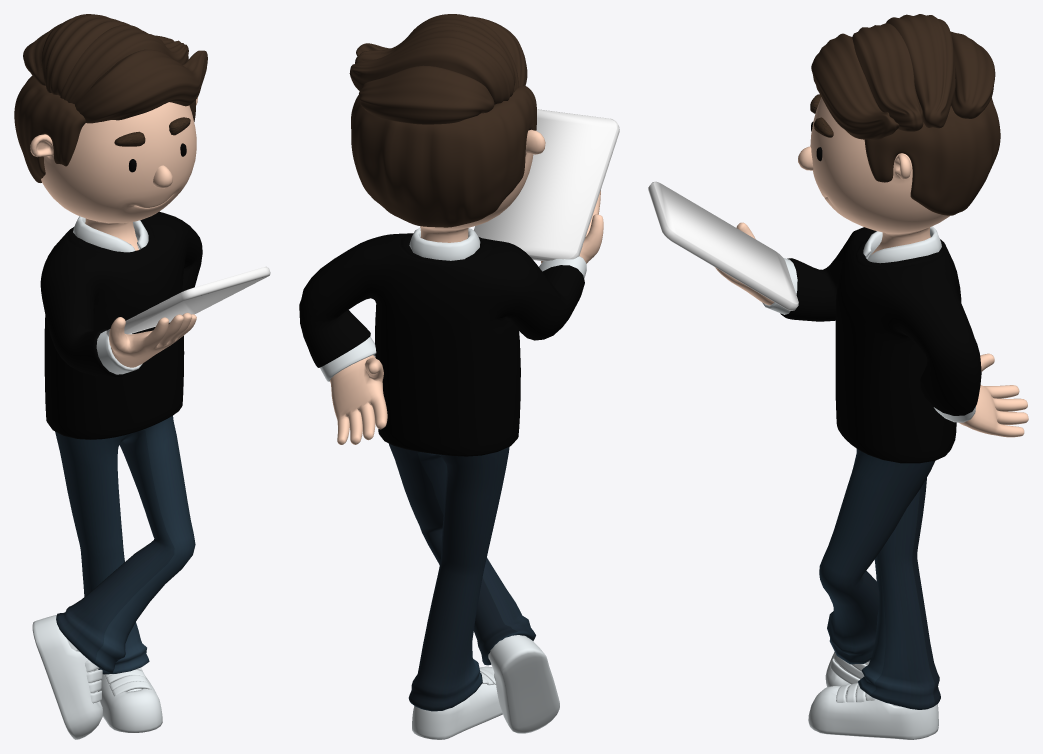
File: Char.gltf
3 renders of one model, left to right at view 1: azimuth 30°, elevation 25°; view 2: azimuth 150°, elevation 25°; view 3: azimuth 270°, elevation 25°, orthographic. The views are drawn at different scales.
Visible parts, largest first — view 1: Jumper_Cube.010_Jumper, LEGS_2_Cube.052_Male_Suit, body_Cube.017_skin_male, Hair_6a_Cube.007_hair_type_3, SHOES_1_Cube.053_shoes_white.001, Hair_6b_Cube.011_hair_type_3, 23_iPad_(pose_23)_Cube.025_tie, Jumper_Cube.010_Shirt_white, SHOES_1_Cube.053_Material, Eyebrow.004_Cube.002_hair_type_3.001; view 2: Jumper_Cube.010_Jumper, LEGS_2_Cube.052_Male_Suit, Hair_6b_Cube.011_hair_type_3, Hair_6a_Cube.007_hair_type_3, 23_iPad_(pose_23)_Cube.025_tie, body_Cube.017_skin_male, SHOES_1_Cube.053_Material, SHOES_1_Cube.053_shoes_white.001, Jumper_Cube.010_Shirt_white; view 3: Jumper_Cube.010_Jumper, LEGS_2_Cube.052_Male_Suit, Hair_6a_Cube.007_hair_type_3, body_Cube.017_skin_male, Hair_6b_Cube.011_hair_type_3, 23_iPad_(pose_23)_Cube.025_tie, SHOES_1_Cube.053_shoes_white.001, Jumper_Cube.010_Shirt_white.
Part boxes in pixels (x1,y1,x2,y2): Jumper_Cube.010_Jumper: (40,211,202,439); LEGS_2_Cube.052_Male_Suit: (55,415,195,674); body_Cube.017_skin_male: (30,97,197,367); Hair_6a_Cube.007_hair_type_3: (23,14,207,123); SHOES_1_Cube.053_shoes_white.001: (35,615,162,739); Hair_6b_Cube.011_hair_type_3: (14,75,195,182); 23_iPad_(pose_23)_Cube.025_tie: (106,266,270,336); Jumper_Cube.010_Shirt_white: (73,216,148,374); SHOES_1_Cube.053_Material: (32,621,162,739); Eyebrow.004_Cube.002_hair_type_3.001: (114,117,190,146); Jumper_Cube.010_Jumper: (299,233,584,456); LEGS_2_Cube.052_Male_Suit: (388,443,535,711); Hair_6b_Cube.011_hair_type_3: (351,85,536,227); Hair_6a_Cube.007_hair_type_3: (349,14,527,124); 23_iPad_(pose_23)_Cube.025_tie: (473,109,619,261); body_Cube.017_skin_male: (330,129,603,444); SHOES_1_Cube.053_Material: (412,648,559,739); SHOES_1_Cube.053_shoes_white.001: (412,635,542,736); Jumper_Cube.010_Shirt_white: (320,227,586,381); Jumper_Cube.010_Jumper: (780,227,981,463); LEGS_2_Cube.052_Male_Suit: (819,449,940,709); Hair_6a_Cube.007_hair_type_3: (811,14,995,140); body_Cube.017_skin_male: (715,97,1028,437); Hair_6b_Cube.011_hair_type_3: (864,98,1000,215); 23_iPad_(pose_23)_Cube.025_tie: (648,181,798,310); SHOES_1_Cube.053_shoes_white.001: (808,651,938,735); Jumper_Cube.010_Shirt_white: (762,226,975,422).
Bounding box in the file's own units: 0.00633 × 0.0208 × 0.0101.
10 materials, 4 textured.
